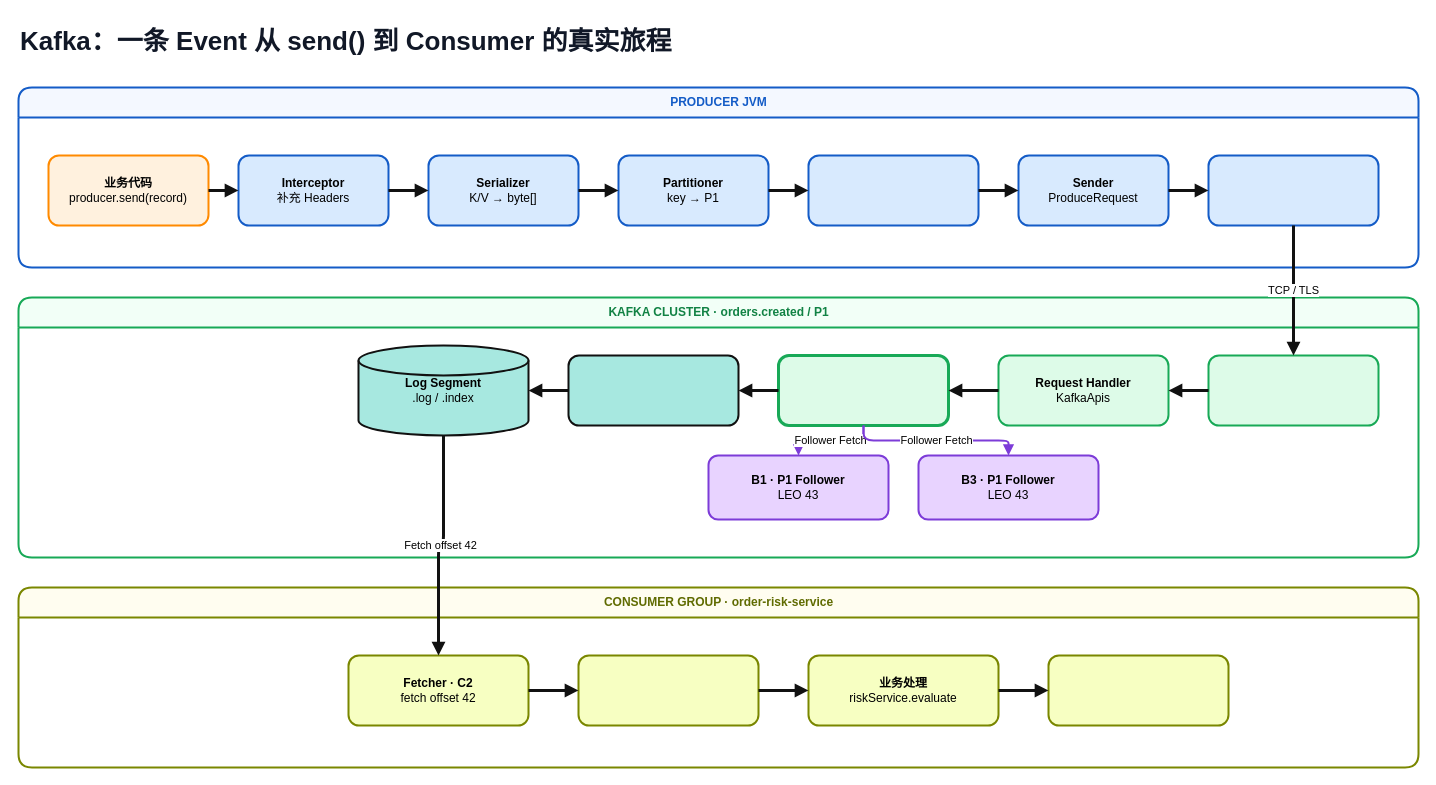
Image size: 1436x785. Some labels were removed from this diagram. The shapes that lost their labels are listed below. From the top down, each one's box as (x1, y1, x2, y2) in pixels, then its label:
(807, 154, 979, 226): RecordAccumulator Batch + zstd
(1207, 154, 1379, 226): NetworkClient Kafka Protocol
(567, 354, 739, 426): Page Cache 顺序追加
(776, 354, 950, 426): P1 Leader · B2 offset = 42
(1207, 354, 1379, 426): SocketServer Network Thread
(577, 654, 759, 726): Deserializer byte[] → K/V
(1047, 654, 1229, 726): Offset Commit 提交 43
